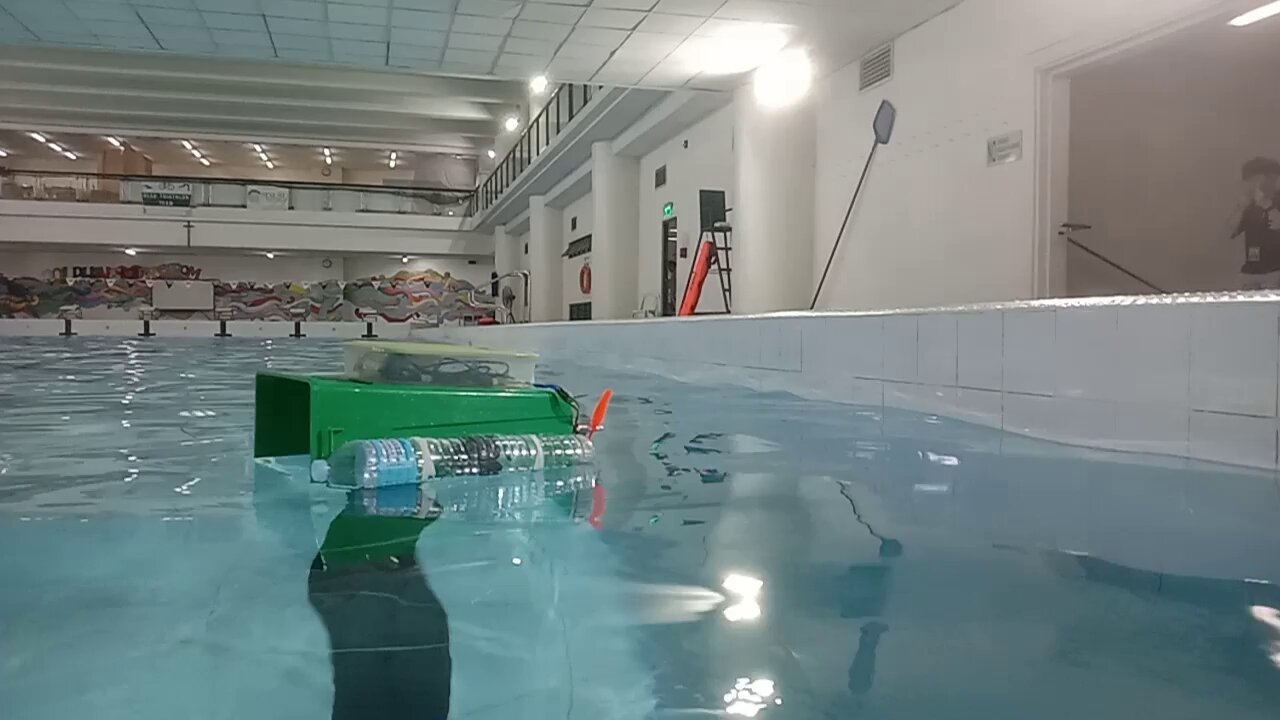drone: (255, 339, 613, 487)
